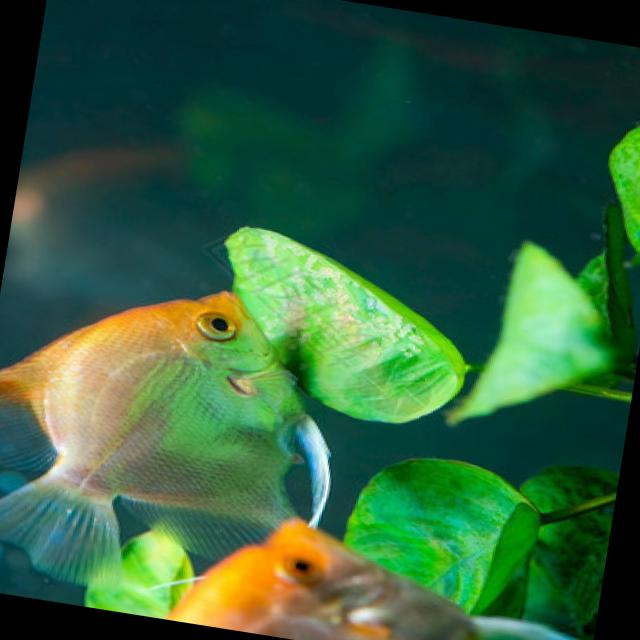AngelFish: (0, 254, 308, 598)
